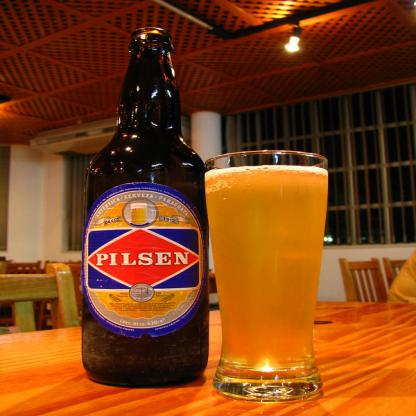drinking: (82, 27, 213, 389), (204, 150, 328, 402)
